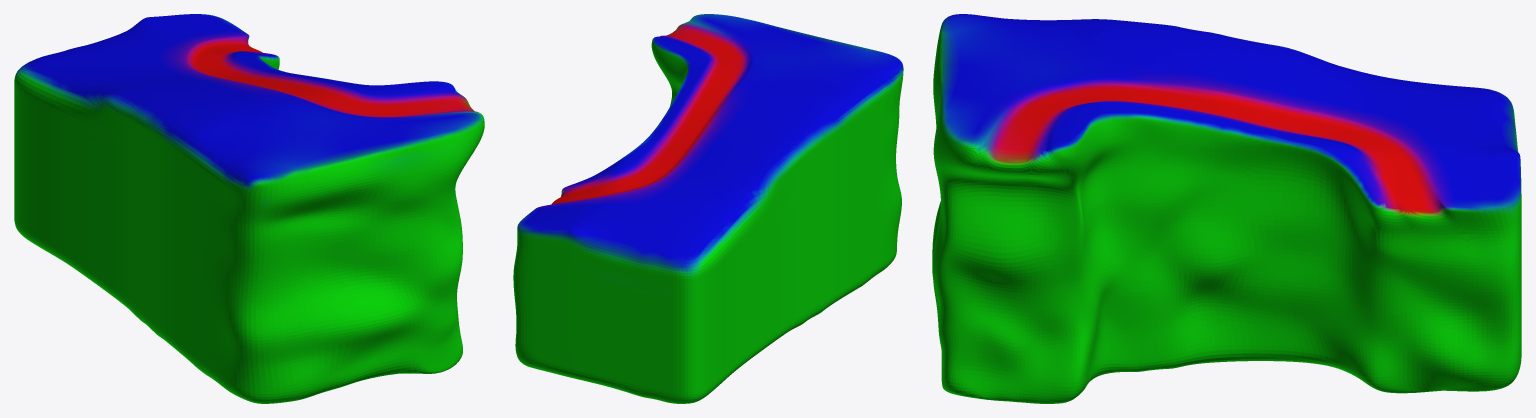
File: level_one_platform_1.fbx
3 views of the same model, side by side, from view 1: azimuth 30°, elevation 25°; view 2: azimuth 150°, elevation 25°; view 3: azimuth 270°, elevation 25° (orthographic). The views are drawn at different scales.
Parts seen in each view (by area): view 1: Cube.001; view 2: Cube.001; view 3: Cube.001.
Part boxes in pixels (x1,y1,x2,y2): Cube.001: [14, 14, 484, 403]; Cube.001: [513, 14, 903, 403]; Cube.001: [932, 14, 1521, 403].
Bounding box in the file's own units: 1199 × 2072 × 1066.
